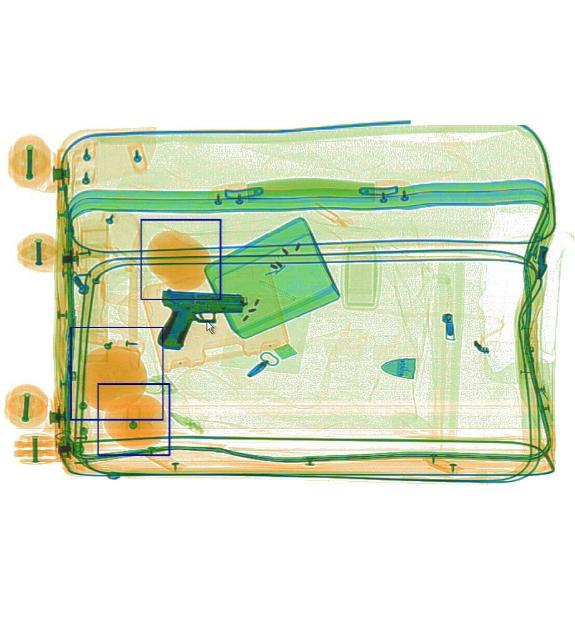Gun: (157, 290, 244, 348)
